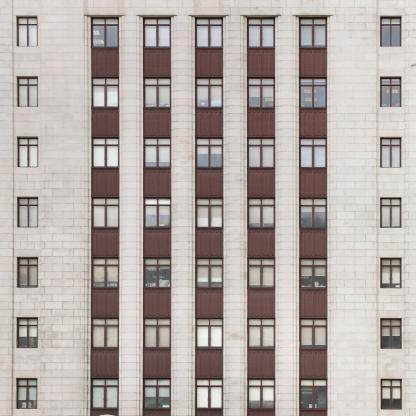Building Outline: (0, 0, 416, 416)
Facade: (0, 0, 416, 416)
Floor: (0, 0, 416, 60), (0, 307, 416, 362), (0, 66, 416, 121), (0, 247, 416, 301), (0, 187, 416, 241), (0, 127, 416, 181), (0, 367, 415, 416)
Floor Slab: (0, 362, 416, 368), (0, 60, 416, 66), (0, 121, 416, 127), (0, 241, 416, 247), (0, 181, 416, 186), (0, 302, 416, 307)
Pillar: (124, 15, 137, 416), (176, 15, 189, 416), (228, 15, 241, 416), (280, 15, 292, 416)
Window: (299, 17, 327, 47), (299, 77, 327, 107), (91, 137, 119, 167), (143, 137, 171, 167), (195, 137, 223, 167), (247, 137, 275, 167), (300, 197, 328, 227), (91, 197, 119, 227), (143, 197, 171, 227), (195, 197, 223, 227), (247, 197, 275, 227), (91, 257, 119, 287), (143, 257, 171, 287), (195, 257, 223, 287), (91, 317, 119, 347), (143, 317, 171, 347), (300, 379, 328, 408), (91, 379, 119, 408), (143, 379, 171, 408), (195, 379, 223, 408), (247, 379, 275, 408), (91, 17, 119, 46), (143, 17, 171, 46), (195, 17, 223, 46), (247, 17, 275, 46), (91, 77, 119, 106), (143, 77, 171, 106), (195, 77, 223, 106), (247, 77, 275, 106), (299, 138, 327, 167), (300, 258, 328, 287), (247, 258, 275, 287), (300, 318, 328, 347), (195, 318, 223, 347), (247, 318, 275, 347), (380, 76, 402, 107), (380, 378, 401, 409), (380, 16, 401, 47), (381, 197, 402, 228), (381, 317, 402, 348), (381, 257, 402, 288), (16, 378, 37, 409), (17, 76, 38, 107), (17, 16, 38, 47), (17, 197, 38, 228), (17, 317, 38, 348), (17, 257, 38, 288), (381, 137, 402, 167), (17, 137, 38, 167)
